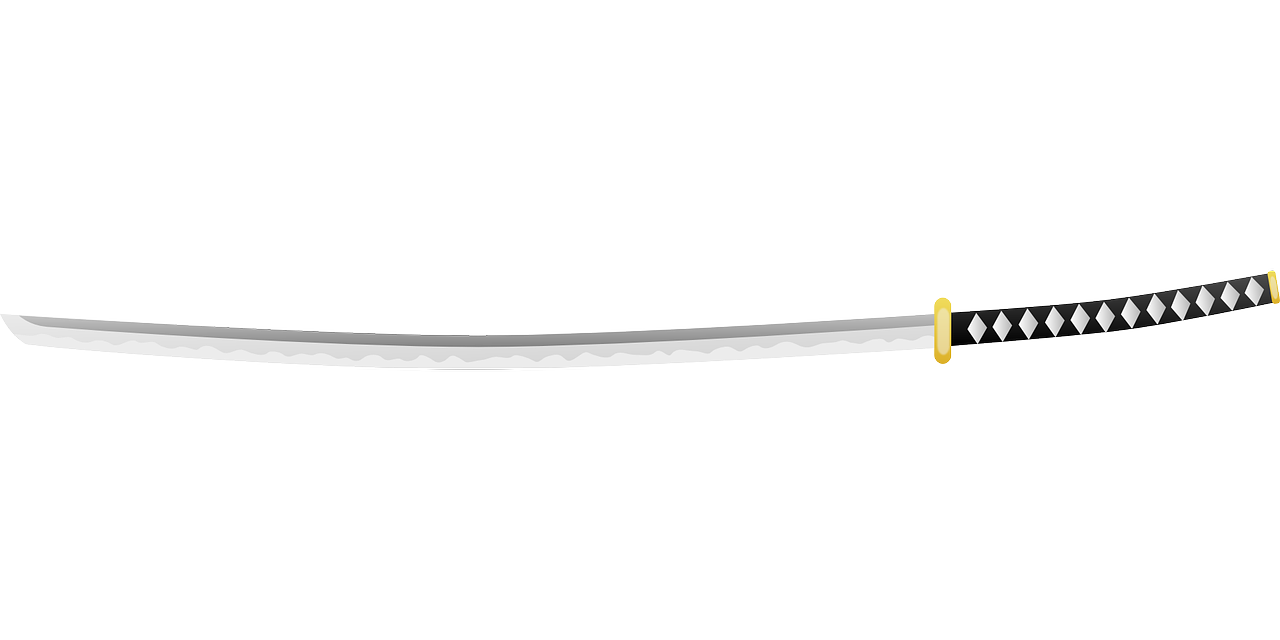knife: (0, 267, 1280, 371)
